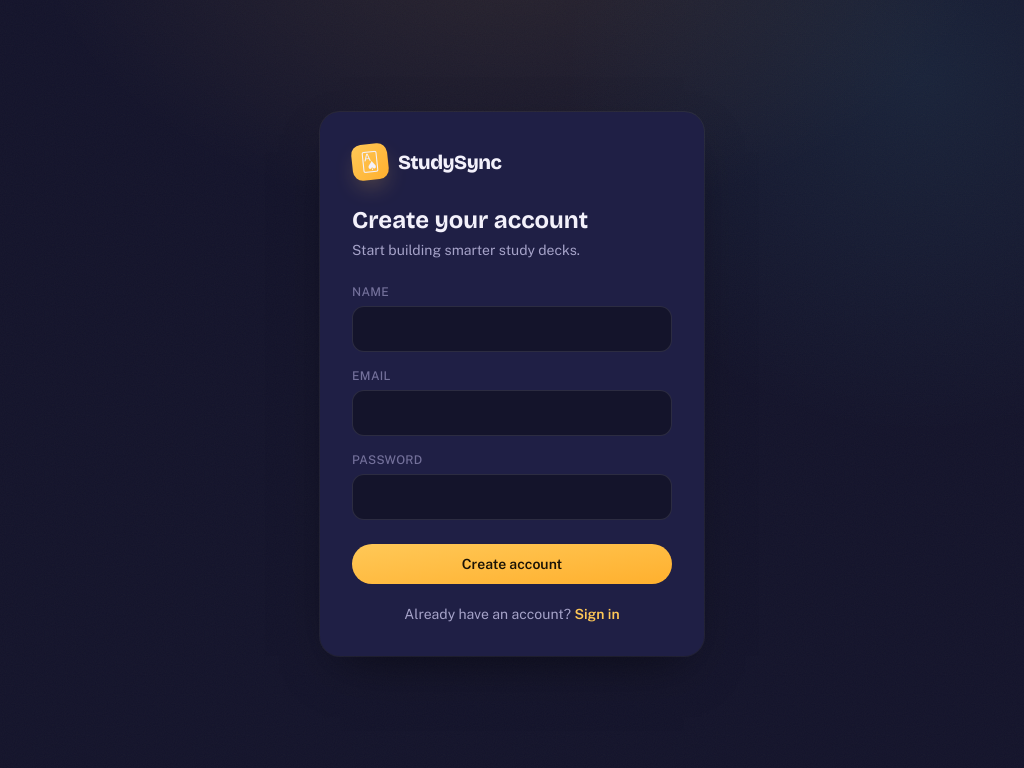
Test case: Register page › surfaces a server error message
Type "Dup" into the field labelled "Name" at (512, 329), box [352, 306, 672, 352]
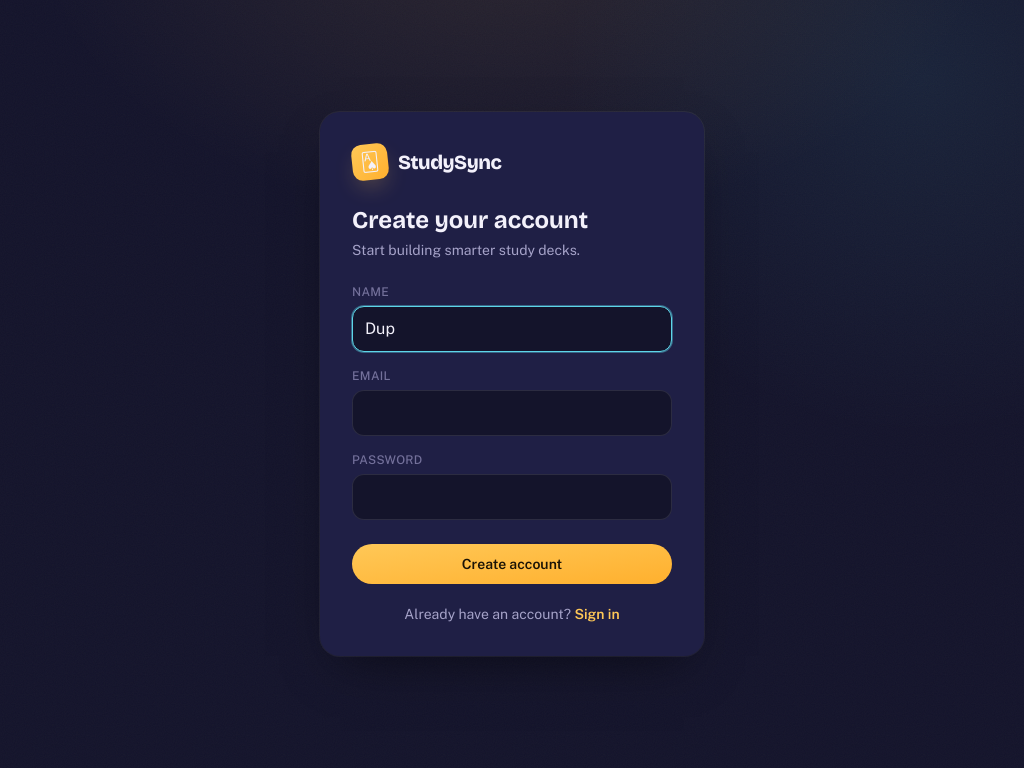
Type "dup@b.com" into the field labelled "Email" at (512, 413), box [352, 390, 672, 436]
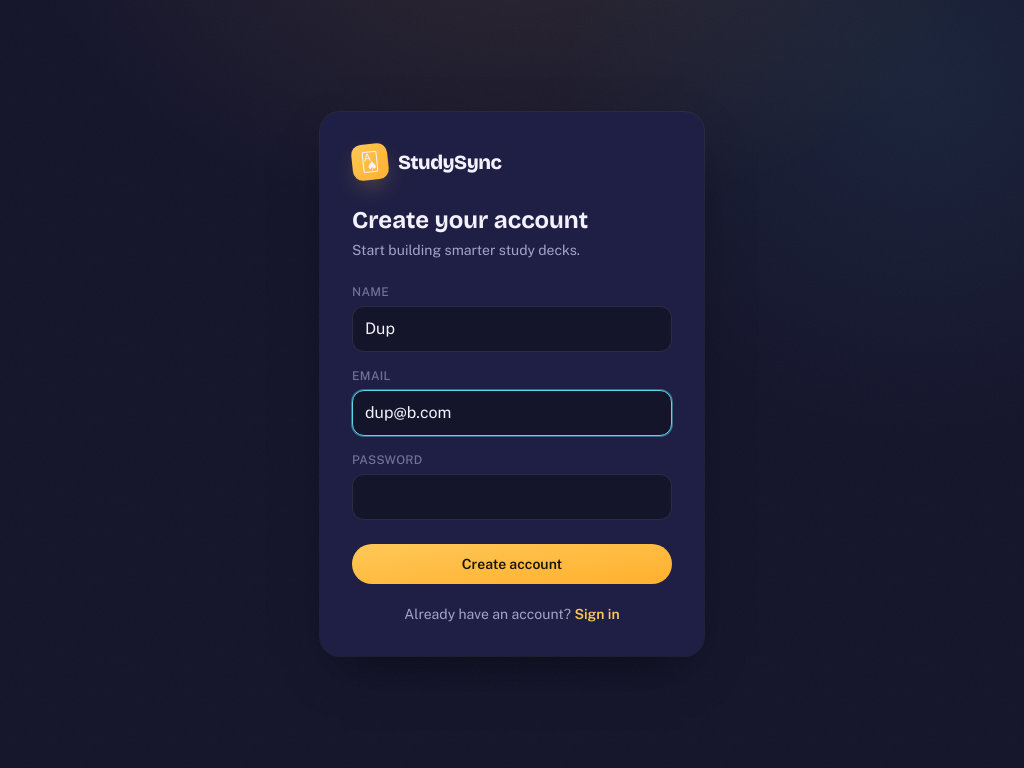
Type "password123" into the password field labelled "Password" at (512, 497), box [352, 474, 672, 520]
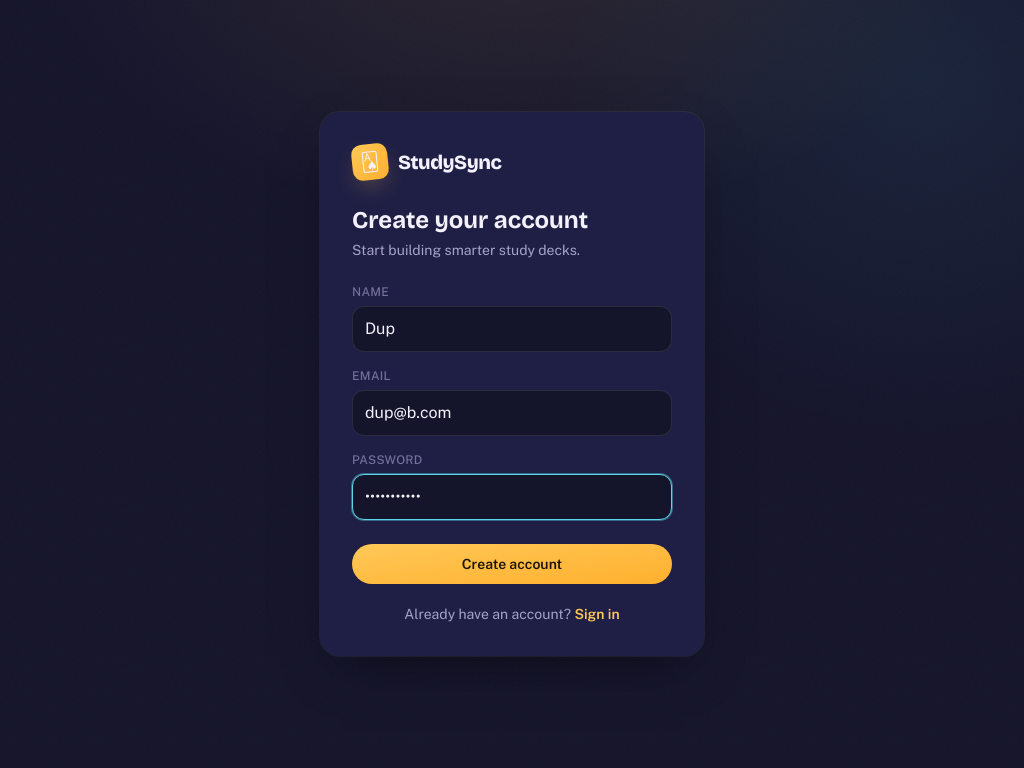
Click the button "Create account" at (512, 564), box [352, 544, 672, 584]
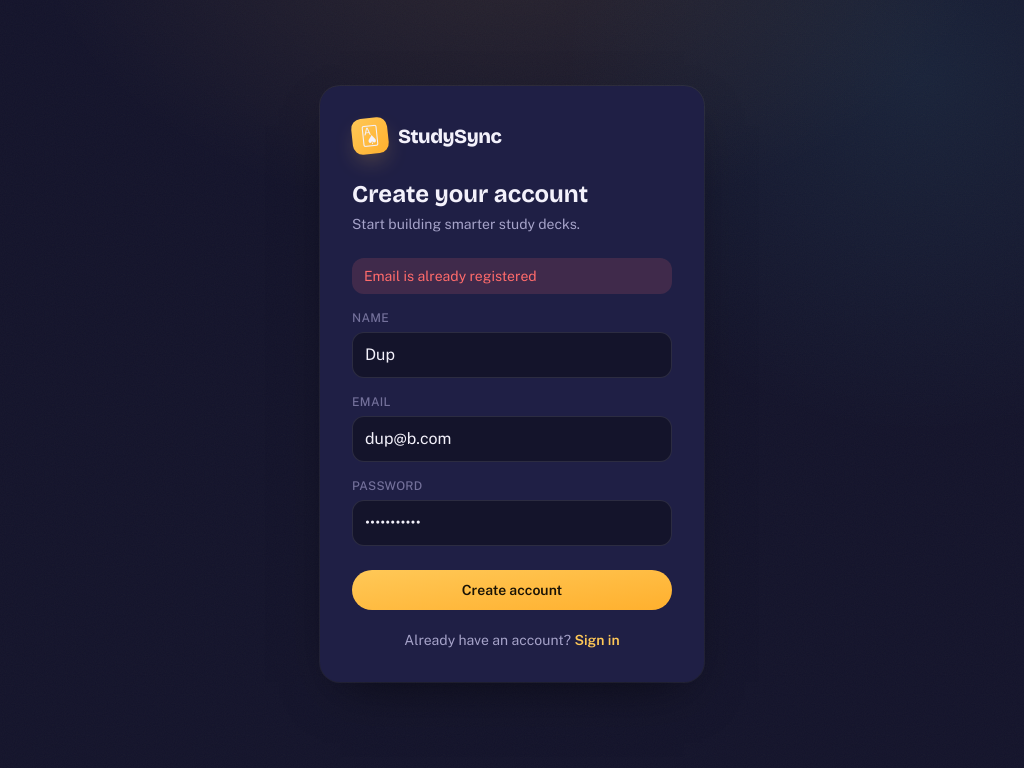
Expected: the message shows "already registered", [364, 268, 537, 284]
